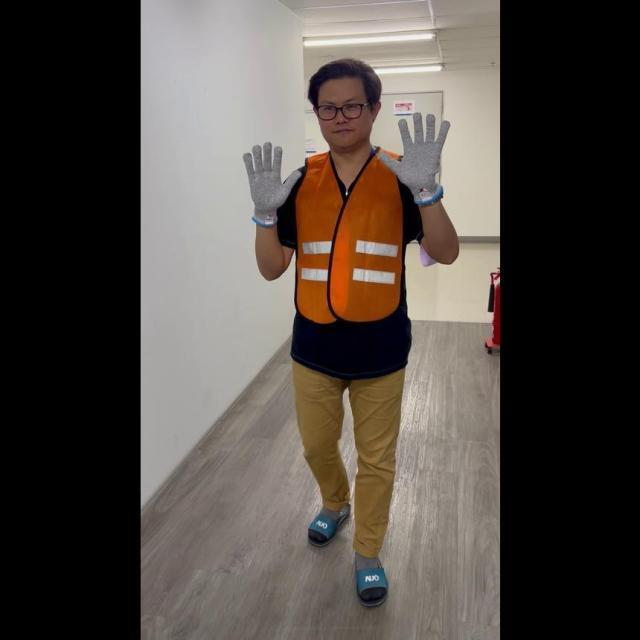gloved_hand: (383, 106, 451, 202), (242, 135, 301, 222)
